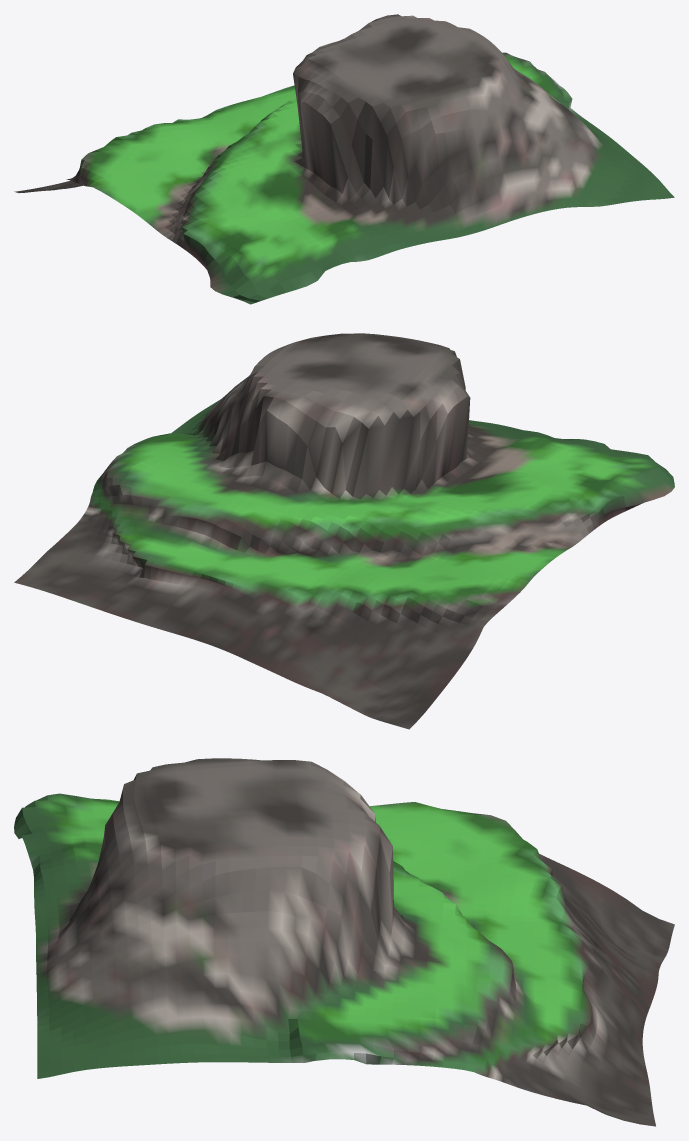
Rendered from Terrain_lv2.glb.
3 views of the same model, one above another, from view 1: azimuth 30°, elevation 25°; view 2: azimuth 150°, elevation 25°; view 3: azimuth 270°, elevation 25° (orthographic). The views are drawn at different scales.
Visible parts, largest first — view 1: Plane; view 2: Plane; view 3: Plane.
Part boxes in pixels (box(x1,y1,x2,y2)): Plane: box(14, 14, 674, 304); Plane: box(14, 333, 674, 729); Plane: box(14, 758, 674, 1126).
Size of the model in its own units: 21.6 by 9.27 by 21.37.
